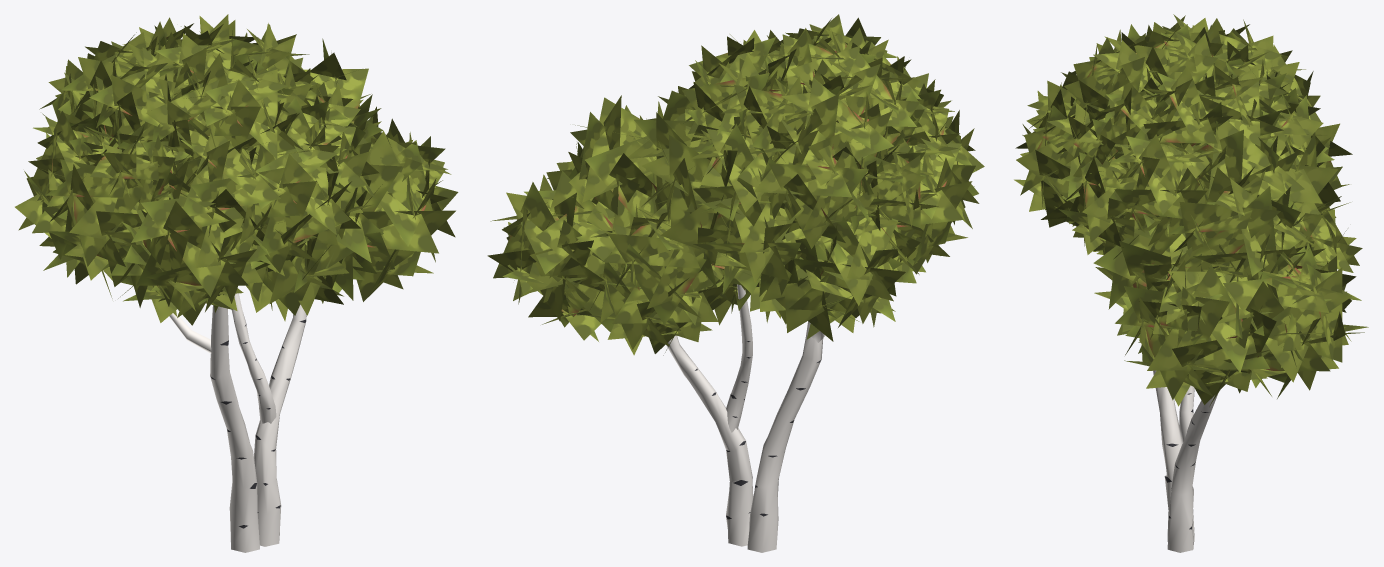
File: Birch_Tree_2.fbx
3 views of the same model, side by side, from view 1: azimuth 30°, elevation 25°; view 2: azimuth 150°, elevation 25°; view 3: azimuth 270°, elevation 25° (orthographic). The views are drawn at different scales.
Parts seen in each view (by area): view 1: Birch_Tree_2; view 2: Birch_Tree_2; view 3: Birch_Tree_2.
Part boxes in pixels (left/top/right/bottom): Birch_Tree_2: left=15, top=14, right=458, bottom=552; Birch_Tree_2: left=487, top=14, right=984, bottom=552; Birch_Tree_2: left=1014, top=14, right=1368, bottom=552.
Bounding box in the file's own units: 721 × 882 × 584.
2 materials, 2 textured.
